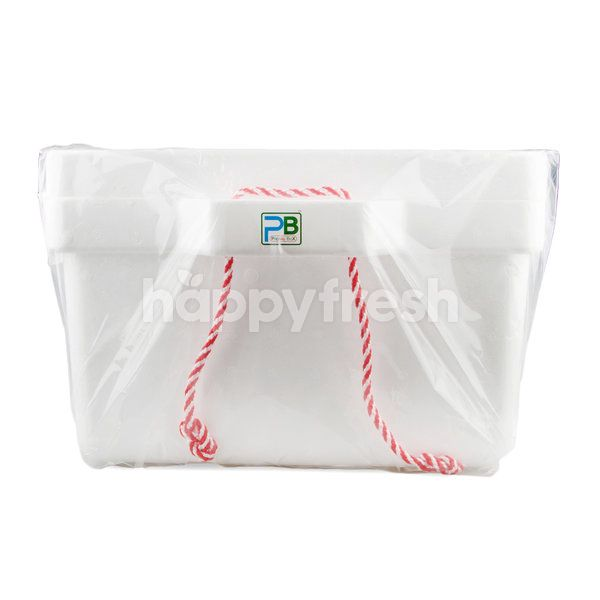Foam Box: (30, 138, 568, 485)
